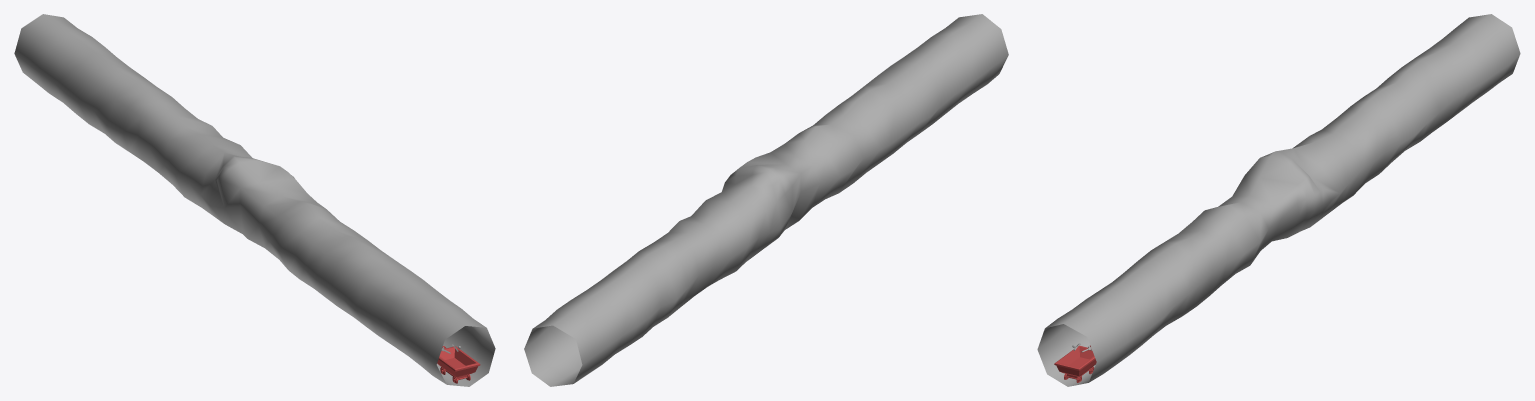
Rendered from StaticModel #2.fbx.
3 renders of one model, left to right at view 1: azimuth 30°, elevation 25°; view 2: azimuth 150°, elevation 25°; view 3: azimuth 330°, elevation 25°, orthographic.
Parts seen in each view (by area): view 1: cave, cart; view 2: cave; view 3: cave, cart.
Part boxes in pixels (x1,y1,x2,y2): cave: (14,14,495,386); cart: (437,346,480,383); cave: (524,14,1008,386); cave: (1037,14,1520,386); cart: (1054,345,1096,382).
Bounding box in the file's own units: 113 × 118 × 1137.
